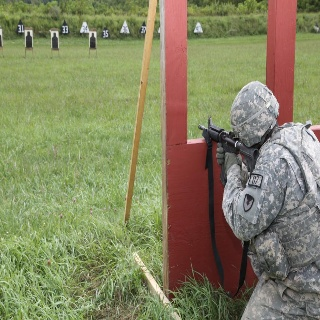rifle: (197, 113, 259, 169)
